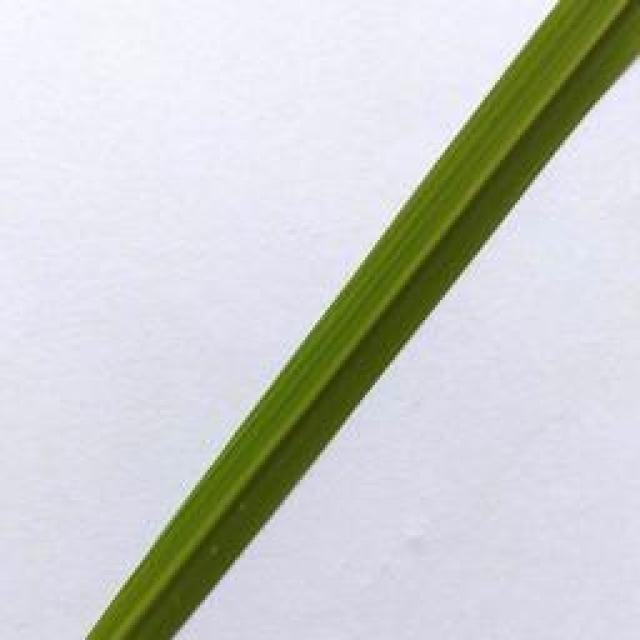Healthy: (82, 0, 640, 640)
